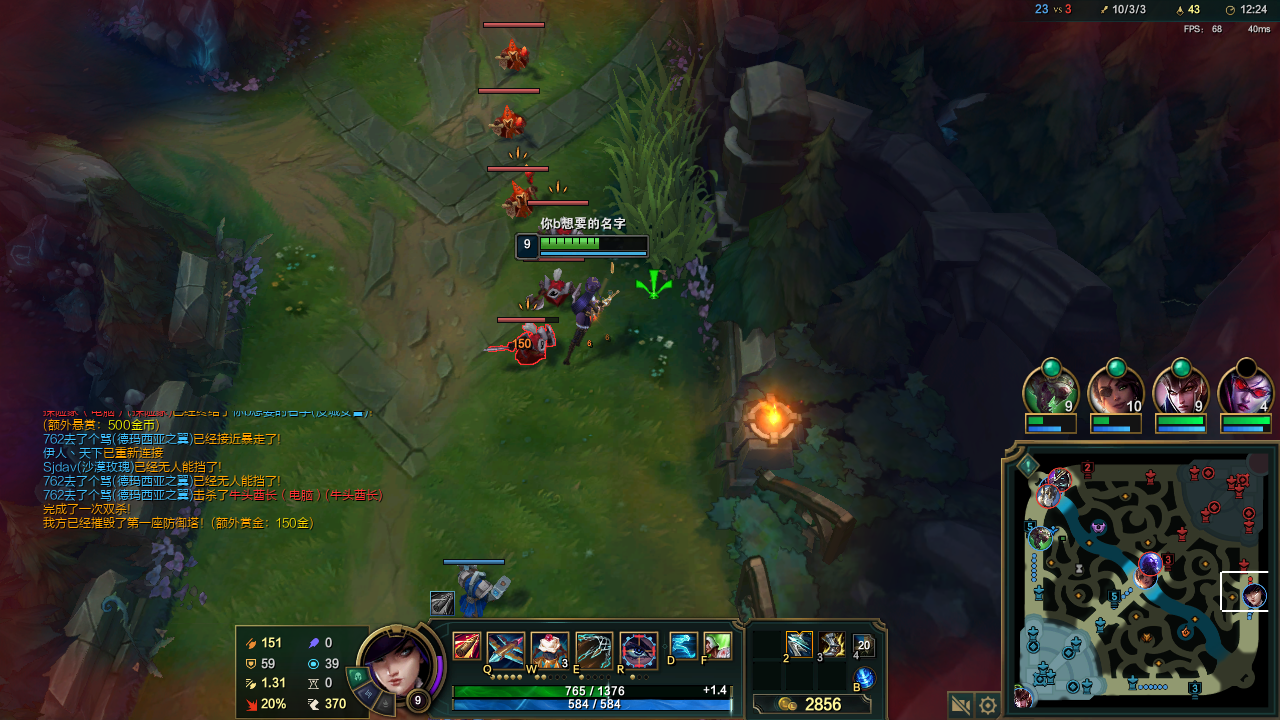DFXB: (508, 316, 562, 367), (528, 270, 579, 307), (499, 39, 547, 71), (503, 184, 538, 218), (494, 101, 528, 132), (554, 228, 582, 234)
WFXB: (457, 569, 514, 611)
